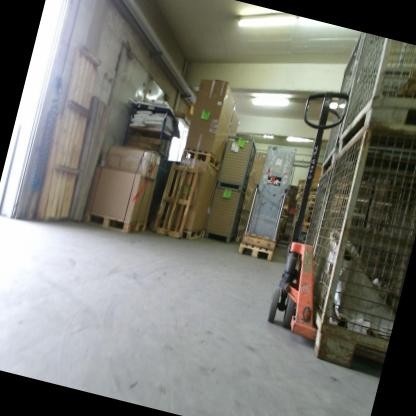pallet: (152, 159, 202, 239), (82, 203, 148, 239), (180, 142, 225, 173), (237, 239, 276, 263), (178, 223, 204, 245)
pallet_truck: (245, 73, 383, 351)
stillage: (286, 101, 416, 375), (336, 33, 416, 172), (316, 31, 366, 180), (299, 155, 340, 255), (200, 181, 248, 247), (214, 131, 262, 197)
